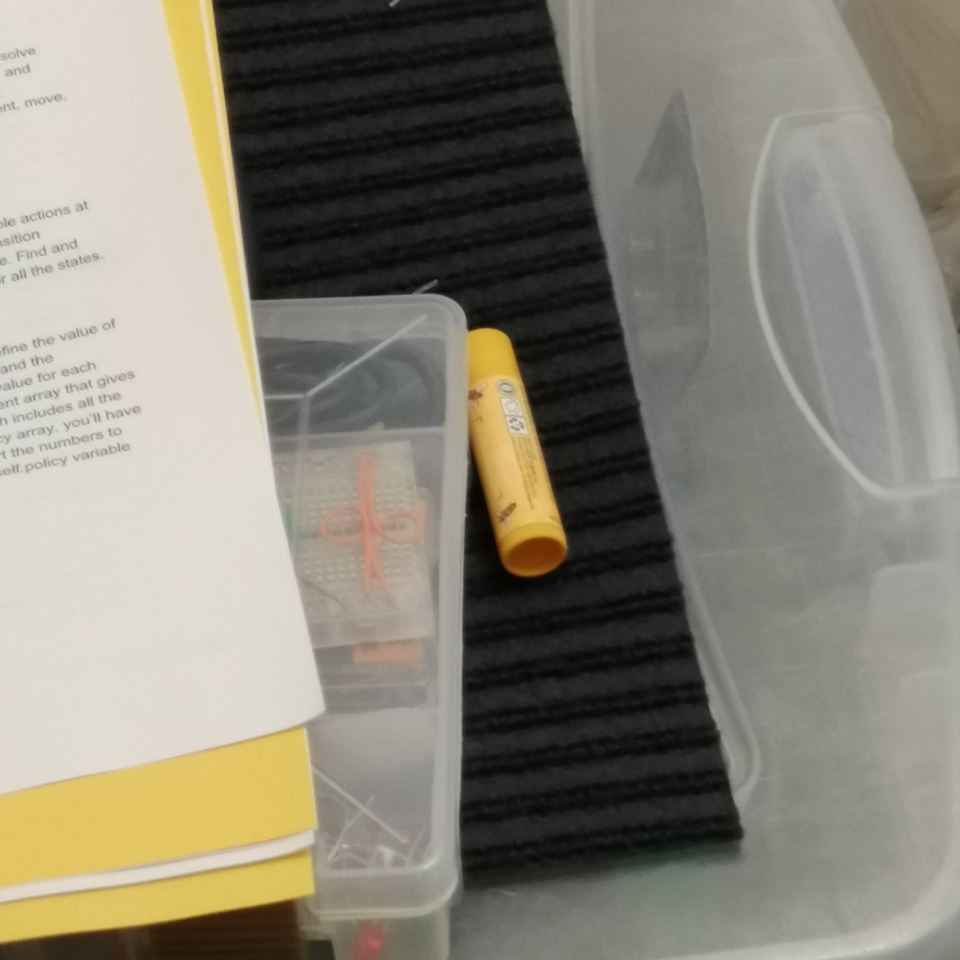chapstick: (467, 328, 569, 577)
